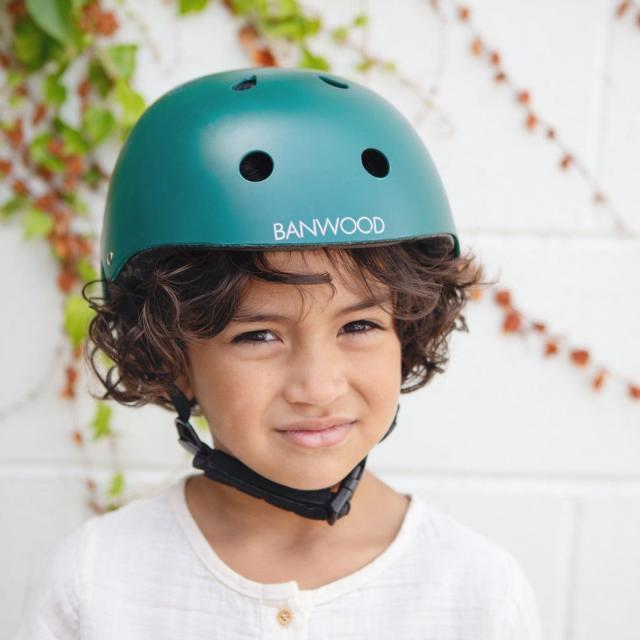helmet: (84, 62, 482, 530)
